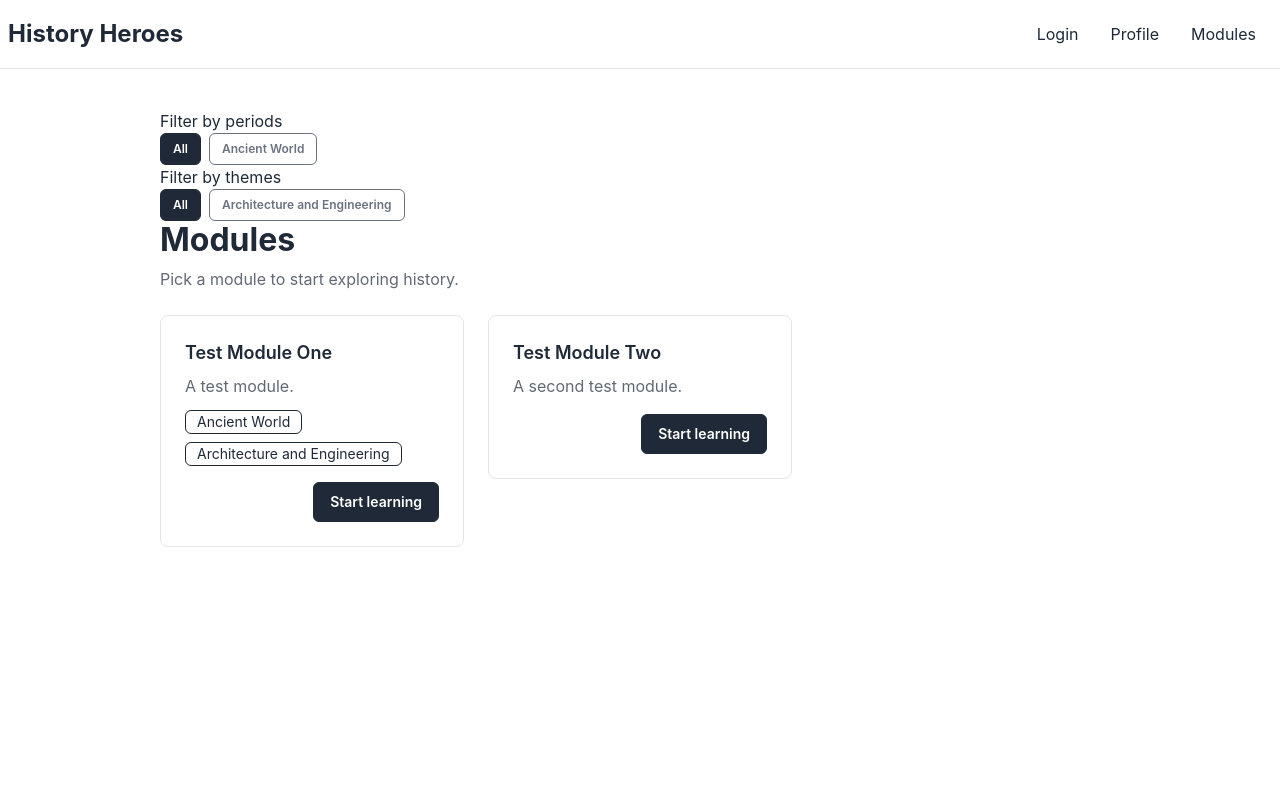
opens the first module when it is selected
Click the link "Start learning" below "A test module.": (376, 502) x1=313 y1=482 x2=439 y2=522
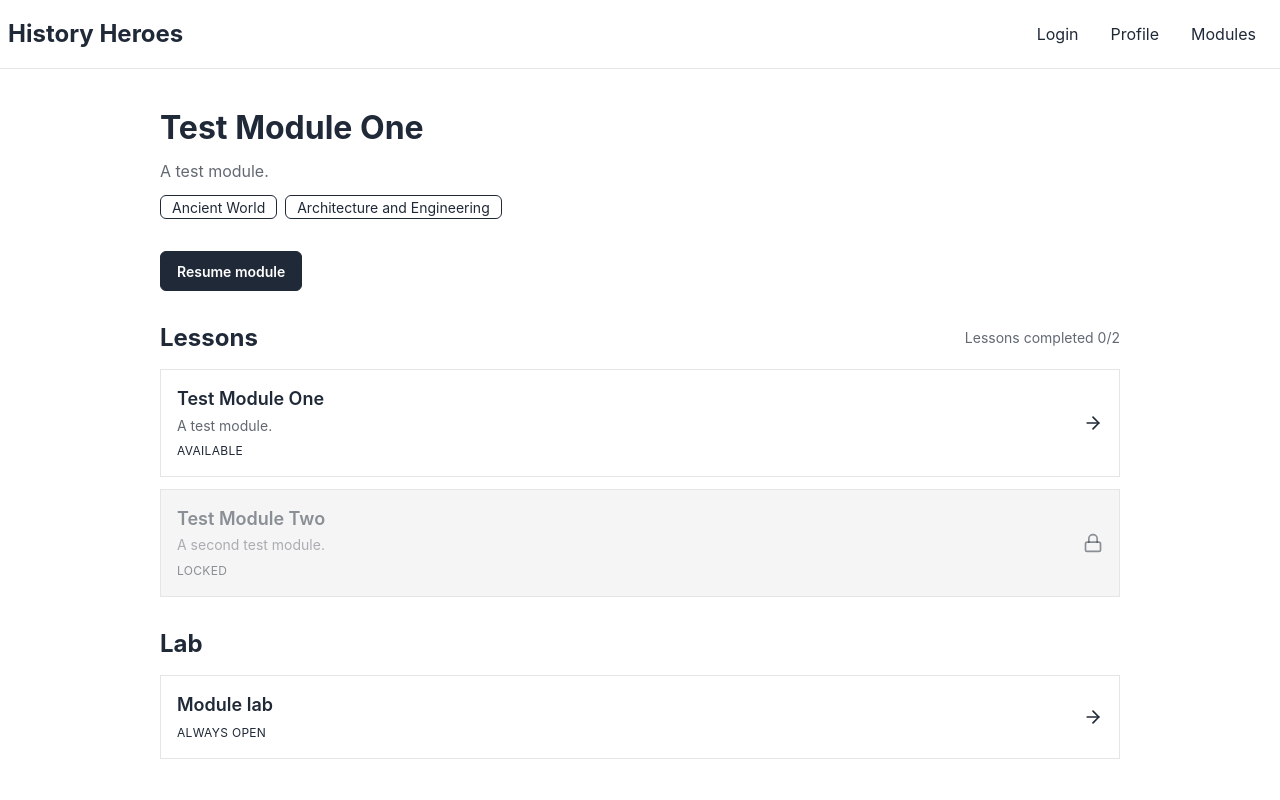
Result: the 1st heading "Test Module One" is shown at x1=160 y1=108 x2=424 y2=147
